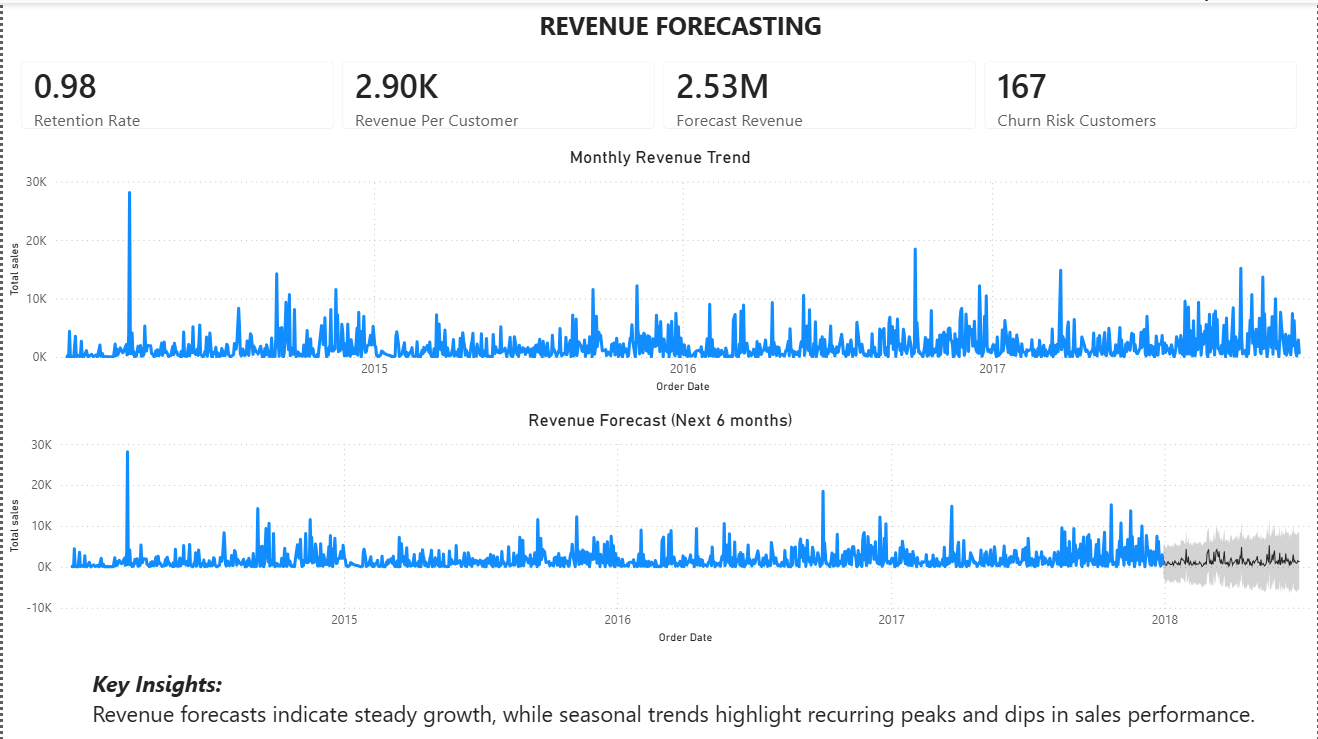

The page's visual inventory and layout, read from the dashboard file:
{"tool":"powerbi","page":{"name":"Page 3","canvas":[1280,720],"ordinal":2},"visuals":[{"type":"textbox","box":[517.8,0,338.6,51],"z":0},{"type":"cardVisual","fields":{"Data":["Sample - Superstore.Retention Rate","Sample - Superstore.Revenue Per Customer","Sample - Superstore.Forecast Revenue","Sample - Superstore.Churn Risk Customers"]},"box":[0,39.5,1280.6,100.3],"z":1000},{"type":"lineChart","title":"Monthly Revenue Trend","fields":{"Y":["DateTable.Total sales"],"Category":["Sample - Superstore.Order Date Hierarchy.Order Date"]},"box":[0,139.7,1280.6,243.3],"z":2000},{"type":"lineChart","title":"Revenue Forecast (Next 6 months)","fields":{"Y":["DateTable.Total sales"],"Category":["Sample - Superstore.Order Date Hierarchy.Order Date"]},"box":[0,396.2,1280.6,231.8],"z":3000},{"type":"textbox","box":[82.2,642.7,1178.6,77.3],"z":4000}]}

Visuals, with their boxes in screenshot pixels (x1, y1, x2, y2), scaled from the page's 1280x720 canvas onto the 1318x739 screenshot:
textbox: [533, 0, 882, 52]
cardVisual - Sample - Superstore.Retention Rate x Sample - Superstore.Revenue Per Customer: [0, 41, 1317, 143]
"Monthly Revenue Trend" lineChart: [0, 143, 1317, 393]
"Revenue Forecast (Next 6 months)" lineChart: [0, 407, 1317, 645]
textbox: [85, 660, 1298, 738]
